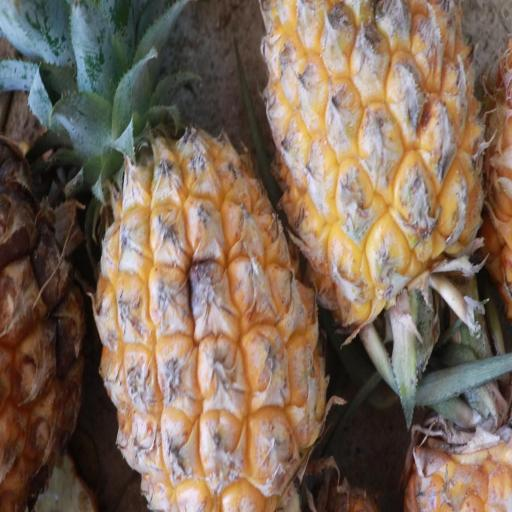Pineapple - v8 v1: (97, 0, 339, 512), (261, 0, 484, 347)
